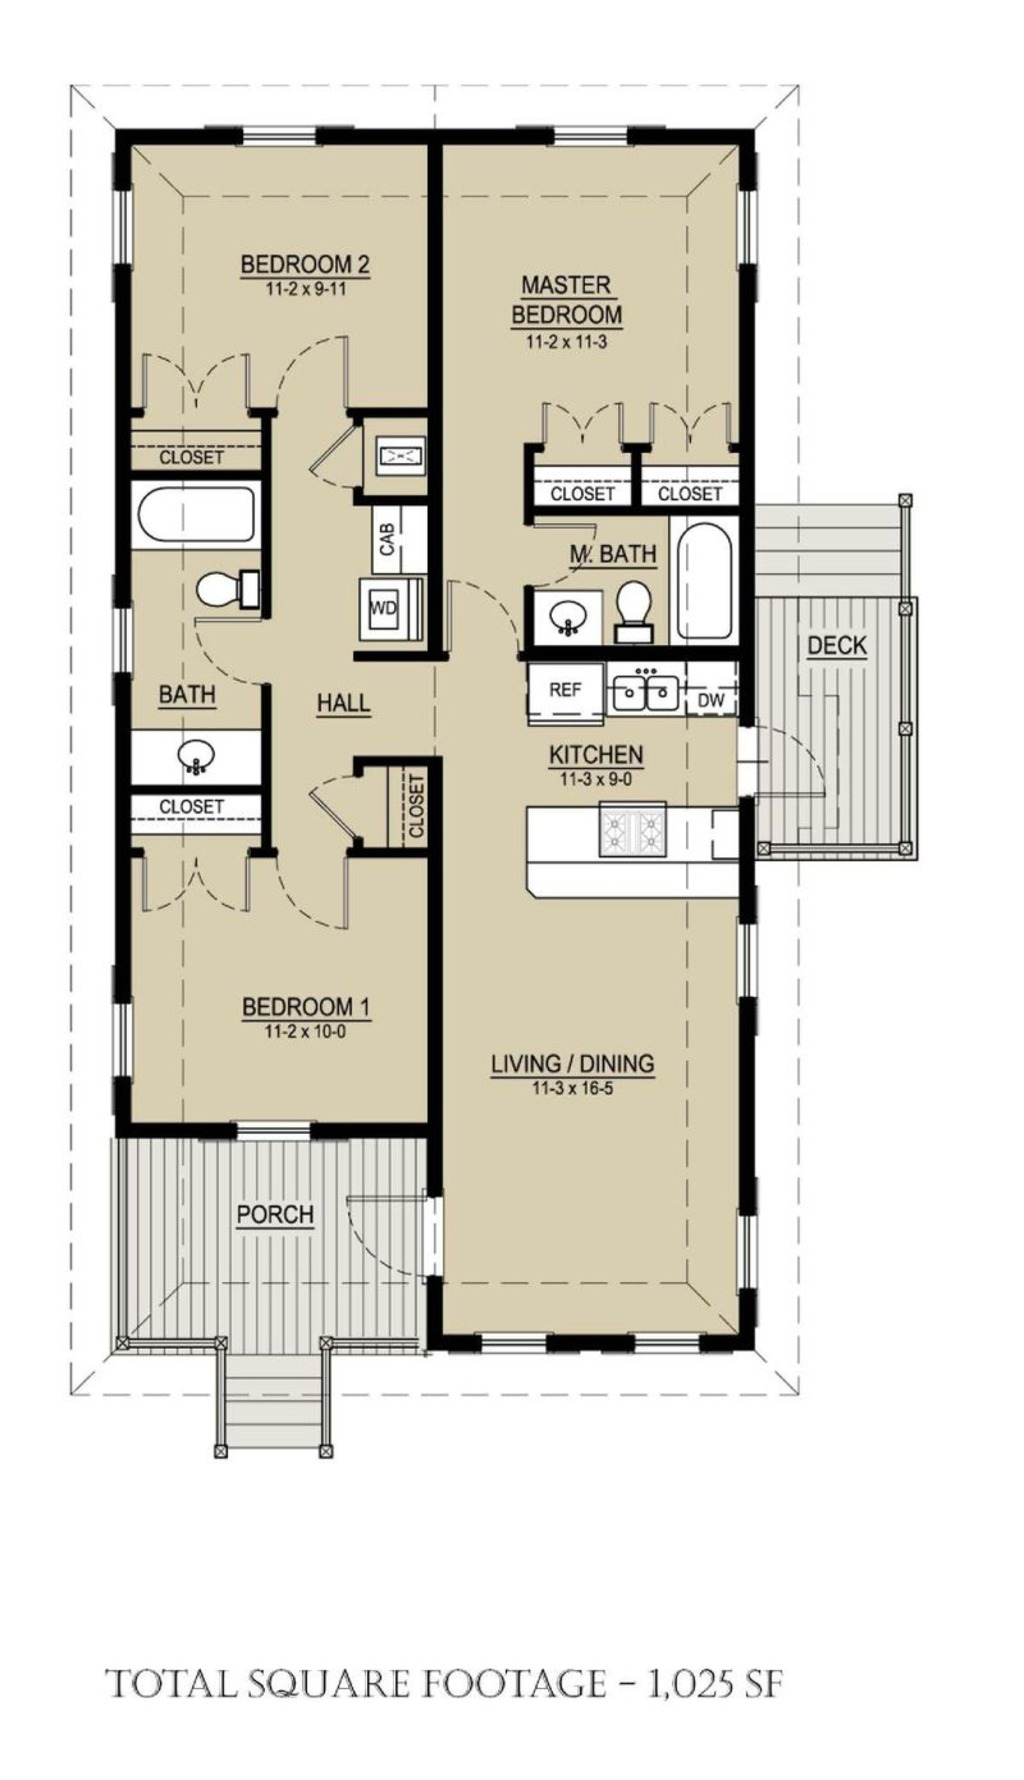door: (137, 844, 252, 914), (139, 353, 248, 418), (274, 337, 352, 416), (276, 852, 349, 935), (303, 771, 369, 852), (644, 395, 734, 452), (529, 399, 624, 452)
large_sink: (186, 561, 272, 612), (610, 575, 653, 645)
small_sink: (125, 734, 263, 801), (532, 579, 602, 650)
tub: (120, 469, 272, 550), (667, 513, 744, 644)
twin_sink: (616, 656, 686, 720)
windows: (720, 1201, 767, 1295), (97, 603, 142, 693), (539, 119, 633, 155), (108, 998, 142, 1087), (730, 185, 763, 274), (227, 121, 327, 150), (629, 1329, 714, 1361), (733, 921, 761, 1009), (114, 185, 139, 270), (229, 1121, 310, 1146), (473, 1333, 550, 1357)
